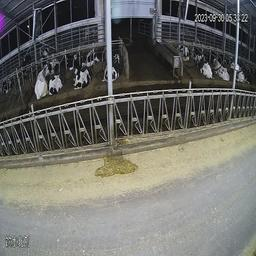cow: (101, 48, 123, 87), (69, 61, 92, 90), (34, 63, 50, 102), (196, 51, 215, 82), (49, 60, 64, 96), (18, 54, 33, 88), (62, 50, 84, 71), (212, 57, 230, 82), (230, 59, 246, 85), (84, 46, 101, 68), (175, 40, 191, 62), (1, 73, 16, 96), (40, 44, 51, 70), (219, 51, 233, 68)
